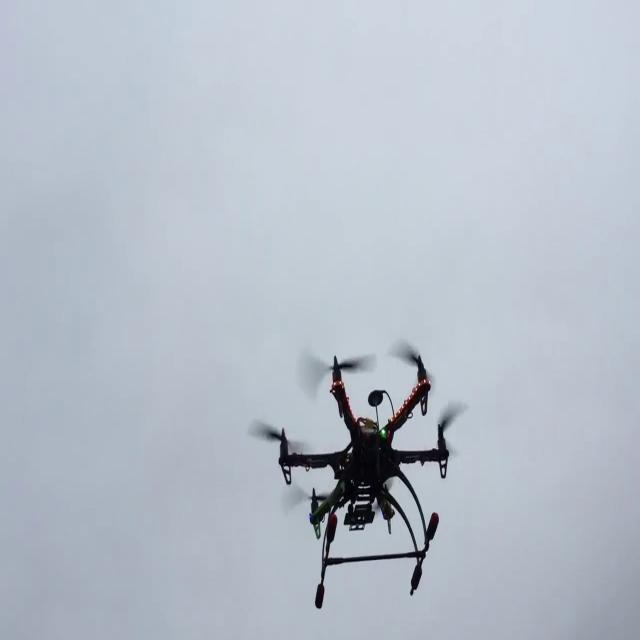drone: (258, 314, 456, 606)
